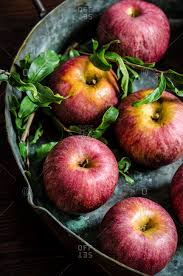apple: (99, 194, 182, 266), (42, 139, 123, 211), (118, 88, 183, 160), (49, 59, 122, 119), (102, 5, 173, 65)
